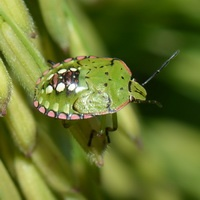insect: (33, 51, 178, 165), (33, 51, 178, 154)
